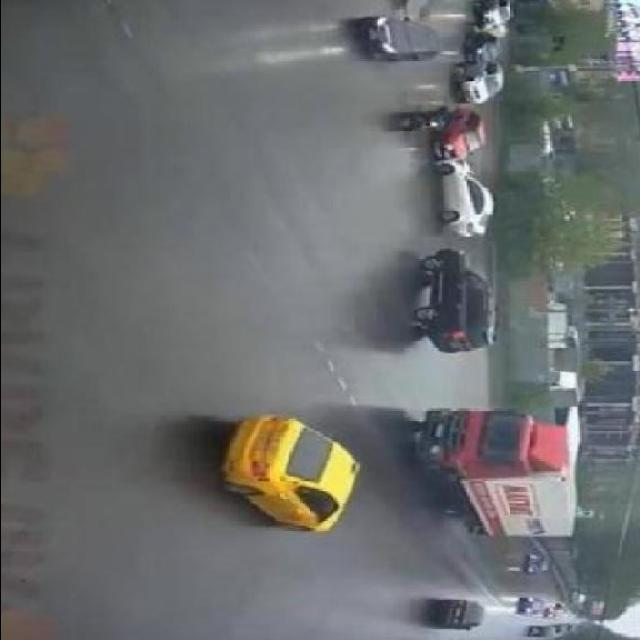accident: (426, 111, 498, 233)
